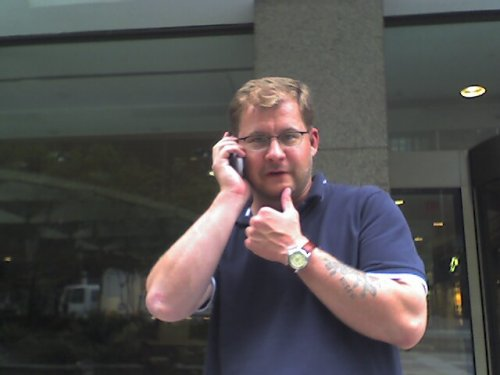phone: (217, 146, 247, 181)
talk: (203, 119, 309, 206)
